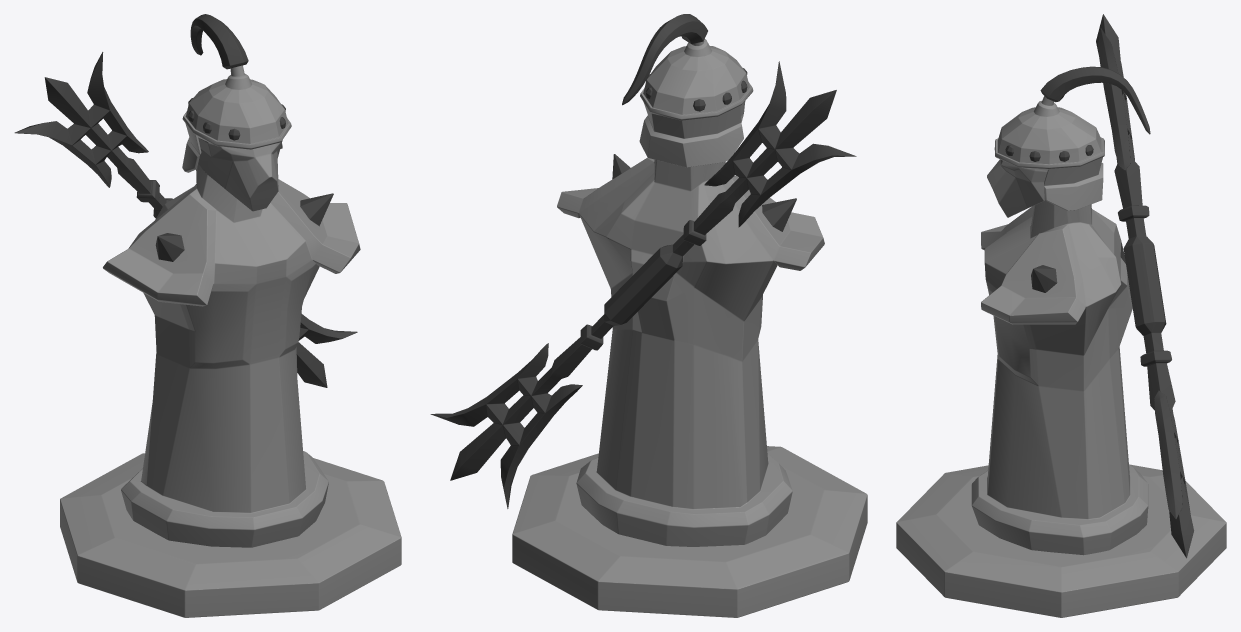
The model's file is samuray_k_w.glb.
3 views of the same model, side by side, from view 1: azimuth 30°, elevation 25°; view 2: azimuth 150°, elevation 25°; view 3: azimuth 270°, elevation 25° (orthographic). The views are drawn at different scales.
Visible parts, largest first — view 1: b_F_2; view 2: b_F_2; view 3: b_F_2.
Boxes of the visible parts, <box> form: b_F_2: <box>14,14,401,617</box>; b_F_2: <box>430,14,867,617</box>; b_F_2: <box>896,14,1226,617</box>.
Size of the model in its own units: 2.03 by 2.69 by 1.65.
1 material, 1 textured.
